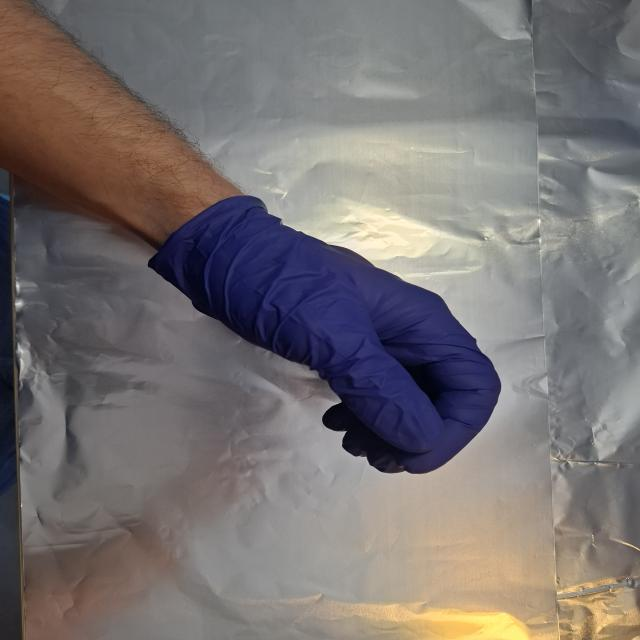glove_on: (153, 194, 507, 478)
